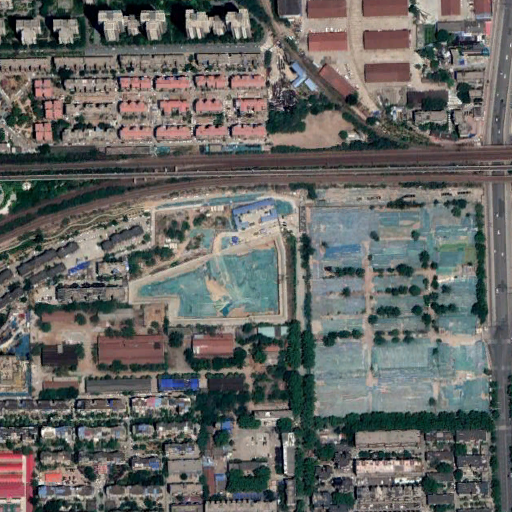cw: (305, 187, 491, 414), (126, 193, 289, 323)
